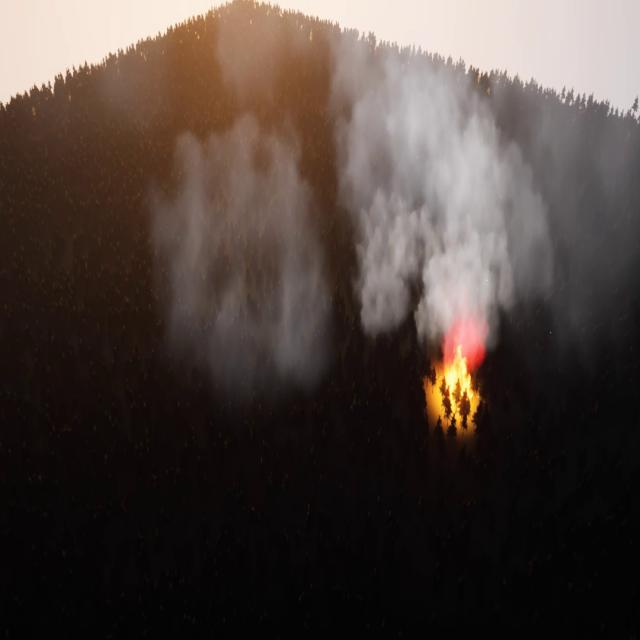fire: (441, 349, 478, 400)
smoke: (330, 15, 640, 351), (118, 8, 334, 392)
